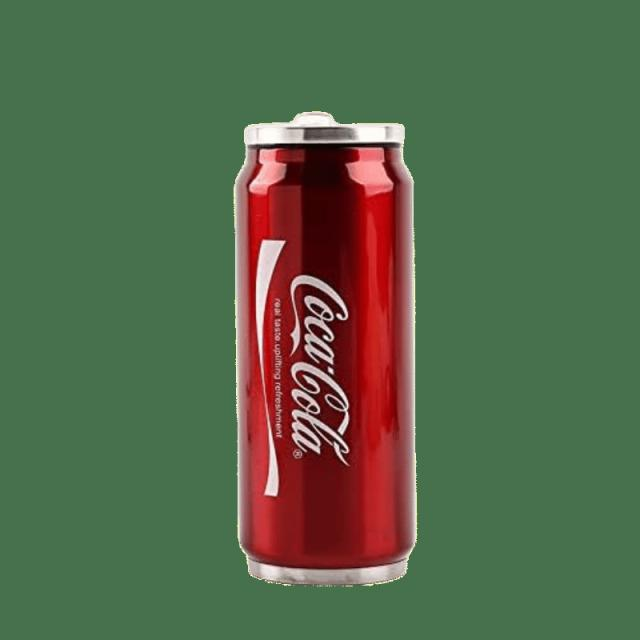soda_can: (197, 95, 467, 597)
